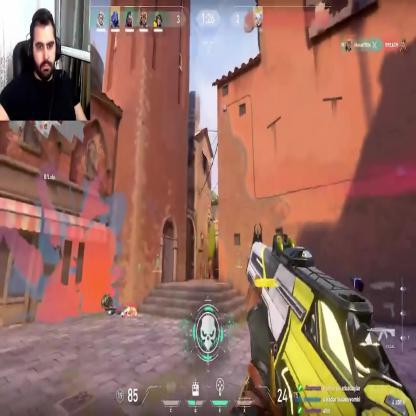enemy: (206, 211, 213, 234)
enemy_head: (208, 212, 211, 217)
